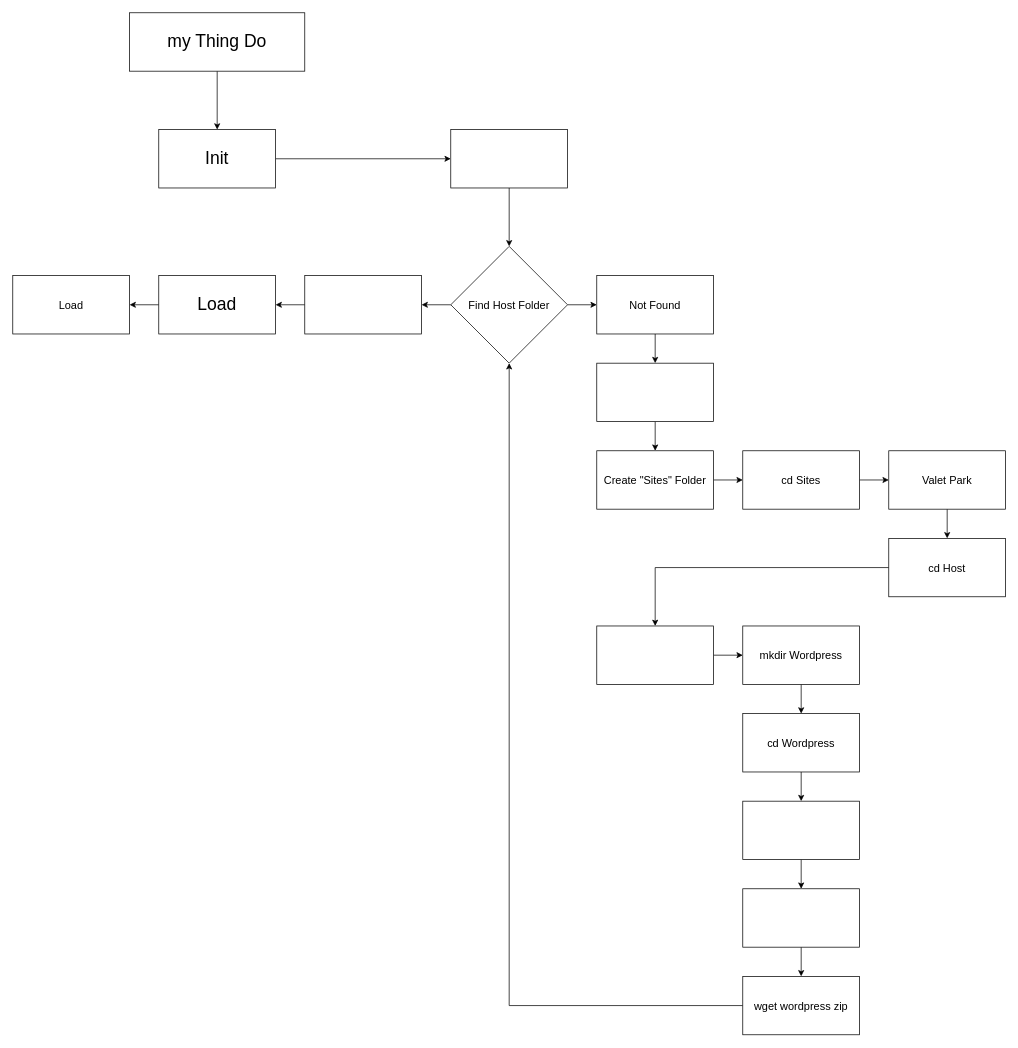
Some shapes in this 1018 by 1048 pixel diagram are drawn without their labels. Here are the shapes that lost their labels. From the top down, the box of each, then its label:
(450, 129, 568, 188): my Host
(304, 275, 422, 334): Found
(596, 362, 714, 422): Create "Host" Folder
(596, 625, 714, 684): Create ". bin" Folder
(742, 800, 860, 860): mkdir Plugins
(742, 888, 860, 947): mkdir Themes
